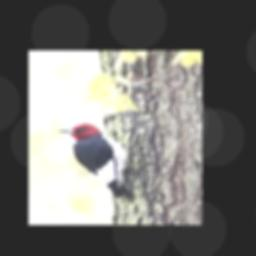Woodpecker: (58, 122, 130, 199)
